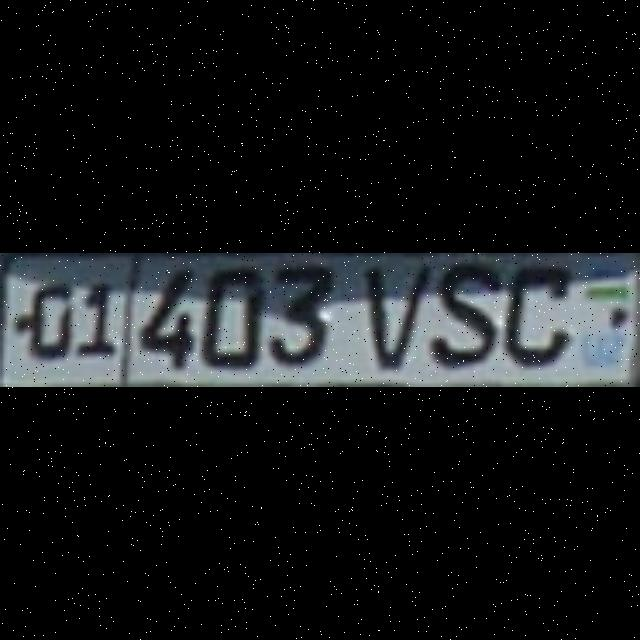0: (196, 264, 258, 366), (28, 280, 68, 356)
1: (72, 281, 110, 353)
3: (266, 263, 330, 363)
4: (134, 264, 190, 366)
C: (502, 263, 568, 363)
S: (426, 260, 496, 362)
V: (362, 264, 420, 366)
